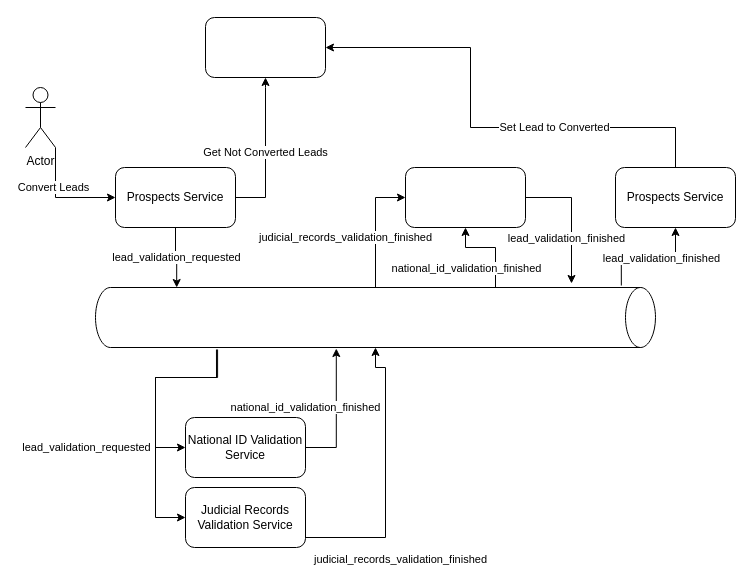
This 753x583 diagram has some shape labels left out. The centre of each missing label's shape, as x and y in pixels:
"Leads Service" goes at pixel 265 47.
"Prospects Validation Service" goes at pixel 465 197.
